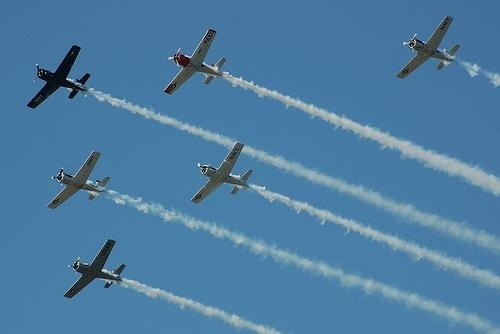aeroplane: (397, 15, 462, 83), (28, 44, 91, 113), (164, 29, 228, 96), (189, 143, 255, 205), (47, 151, 111, 212), (65, 239, 127, 299)
